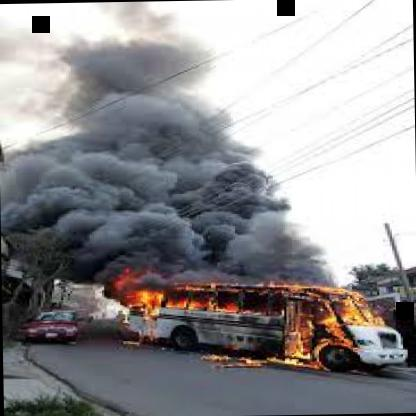fire: (144, 277, 385, 371), (69, 154, 256, 266)
